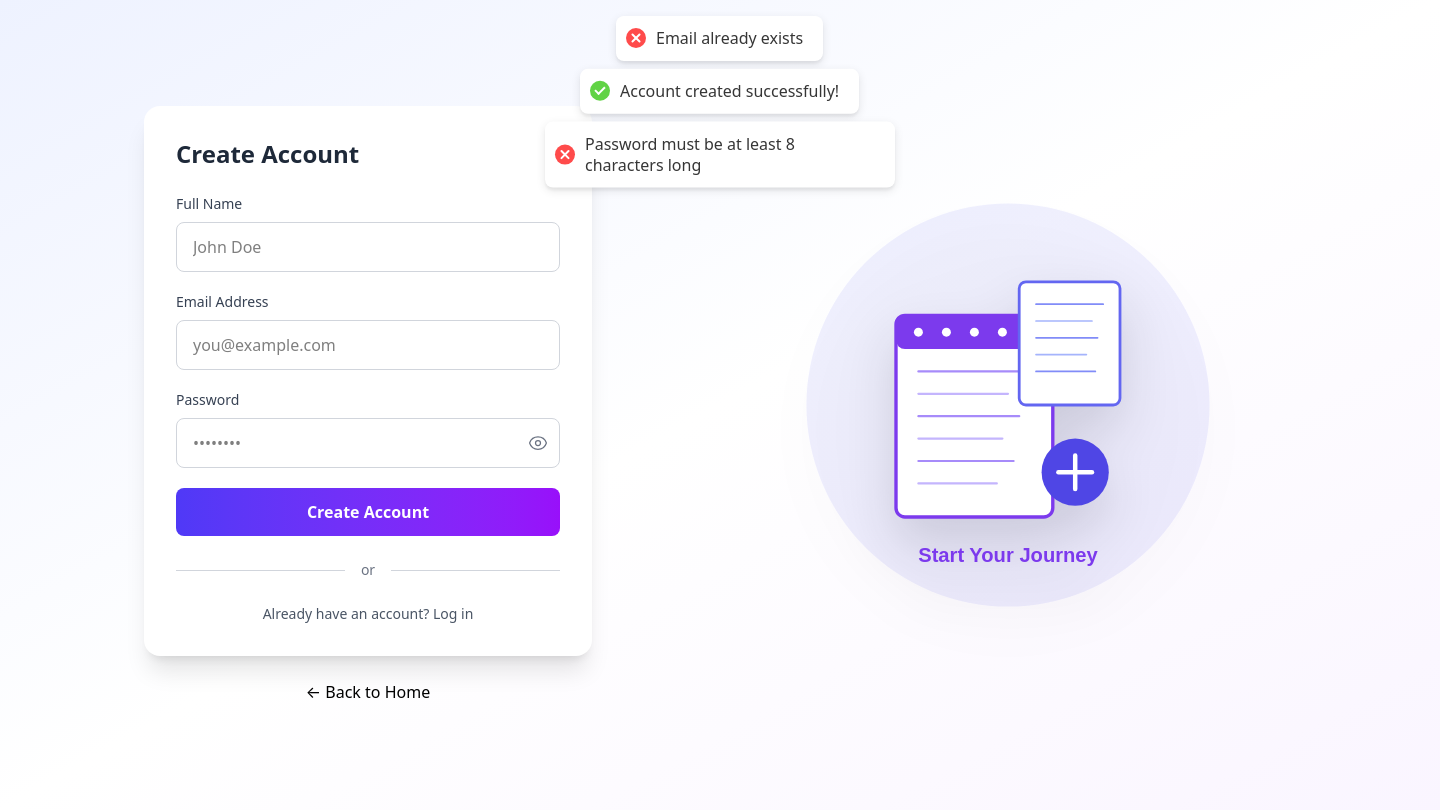
Test: Signup Component › disables submit button while loading
The width and height of the screenshot is (1440, 810).
Type "Test User" into the field labelled "Full Name" at (368, 247), box top-left (176, 222), bottom-right (560, 272)
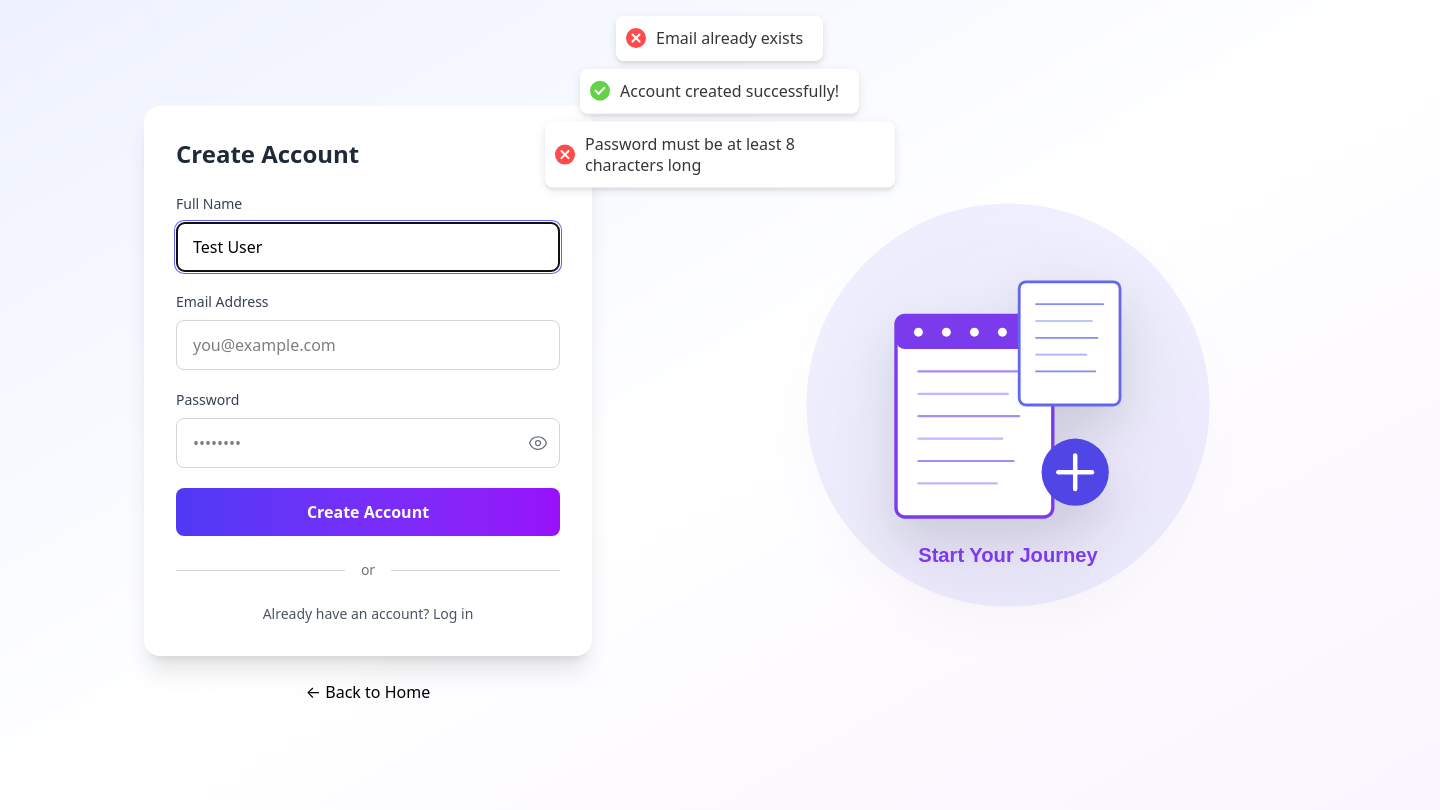
Type "test@example.com" into the field labelled "Email Address" at (368, 345), box top-left (176, 320), bottom-right (560, 370)
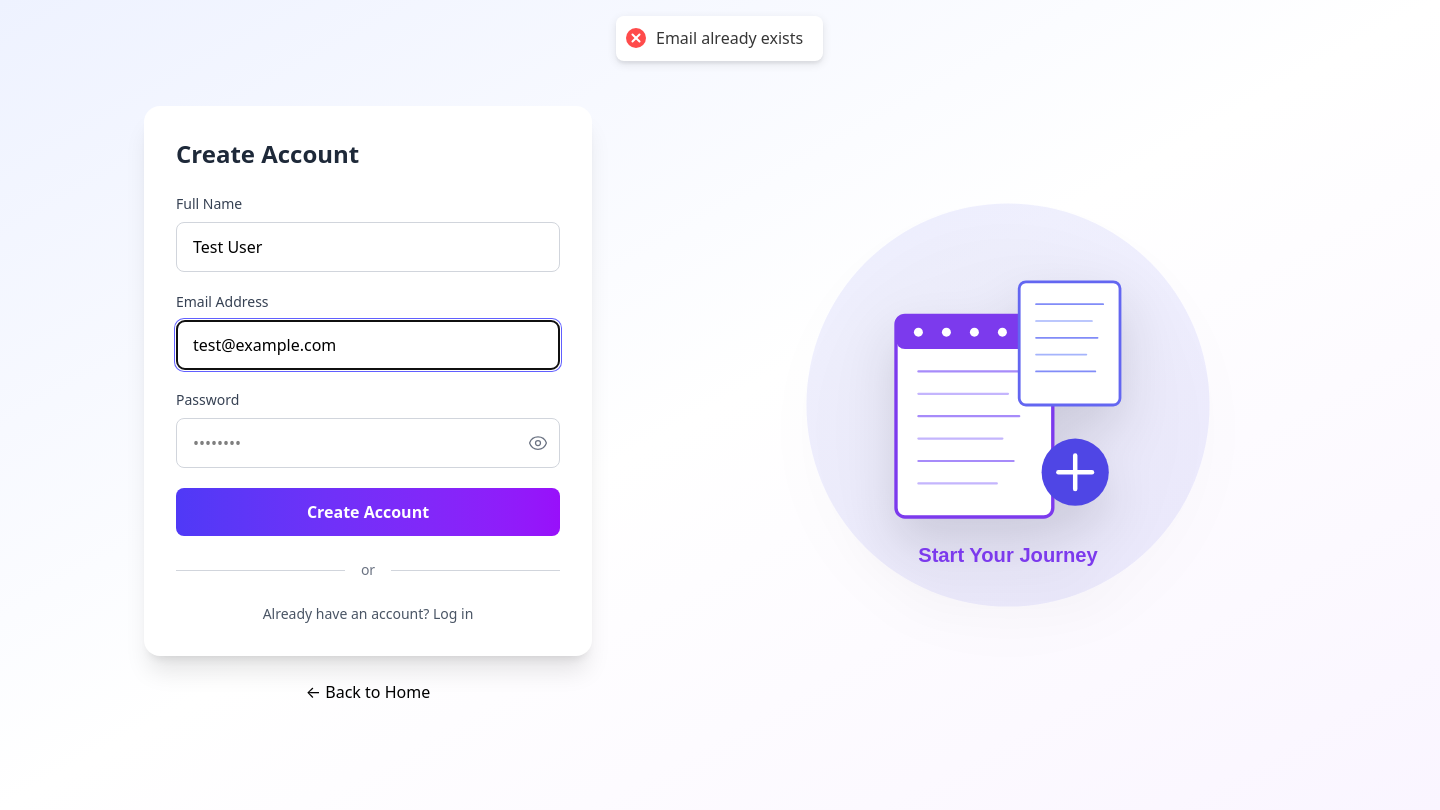
Type "password123" into the password field labelled "Password" at (368, 443), box top-left (176, 418), bottom-right (560, 468)
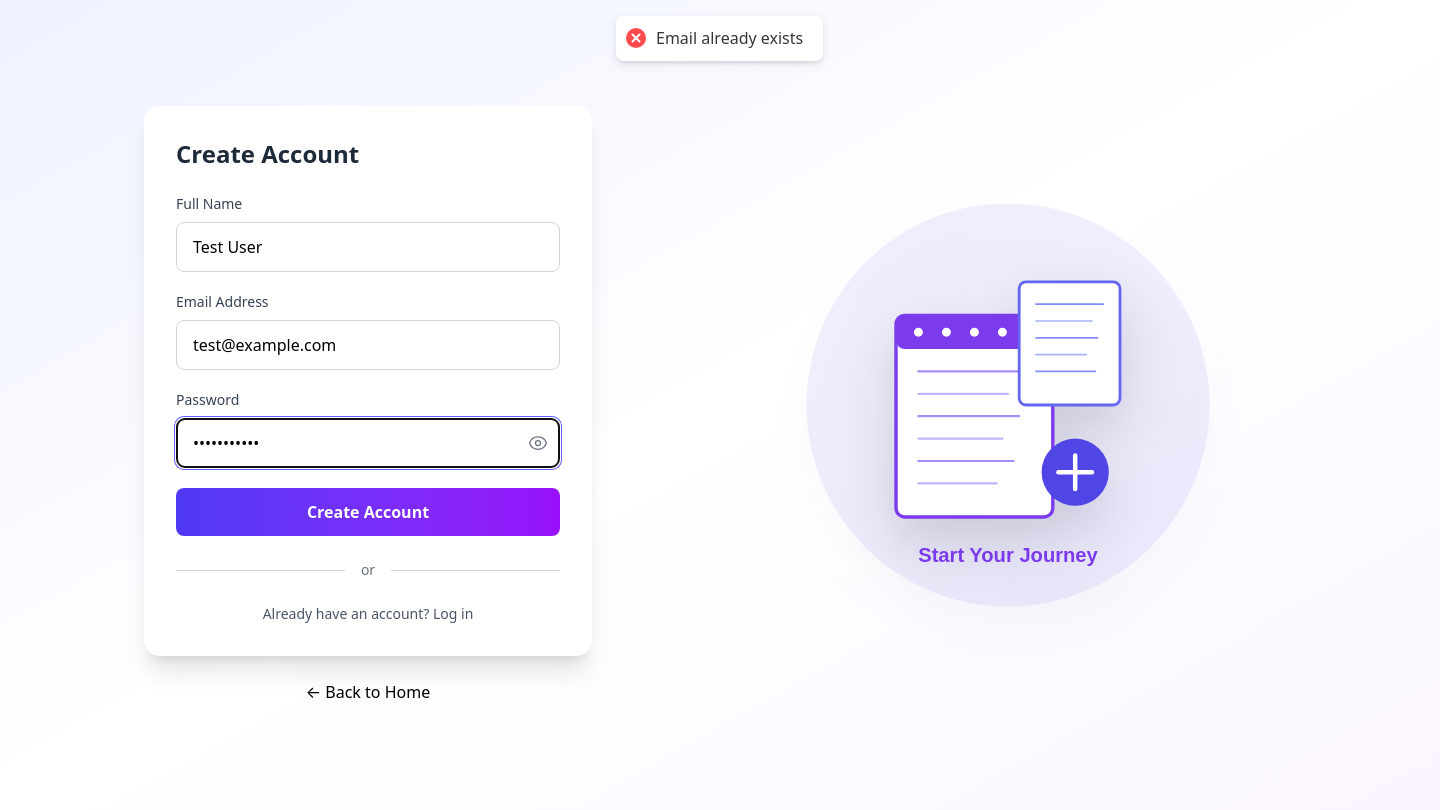
Click the button "Create Account" at (368, 512), box top-left (176, 488), bottom-right (560, 536)
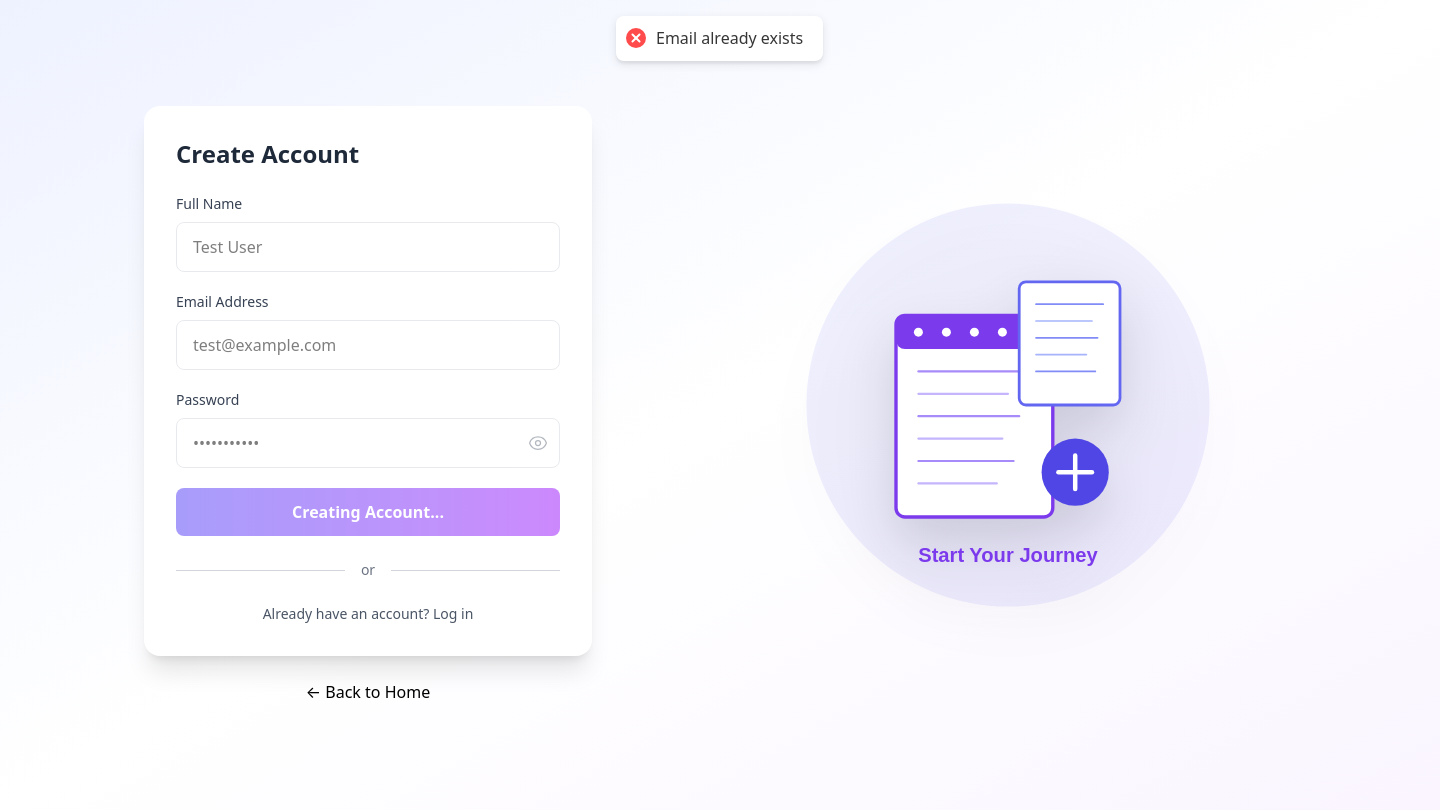
Expected: the button named "create account" is disabled, top-left (176, 488), bottom-right (560, 536)
